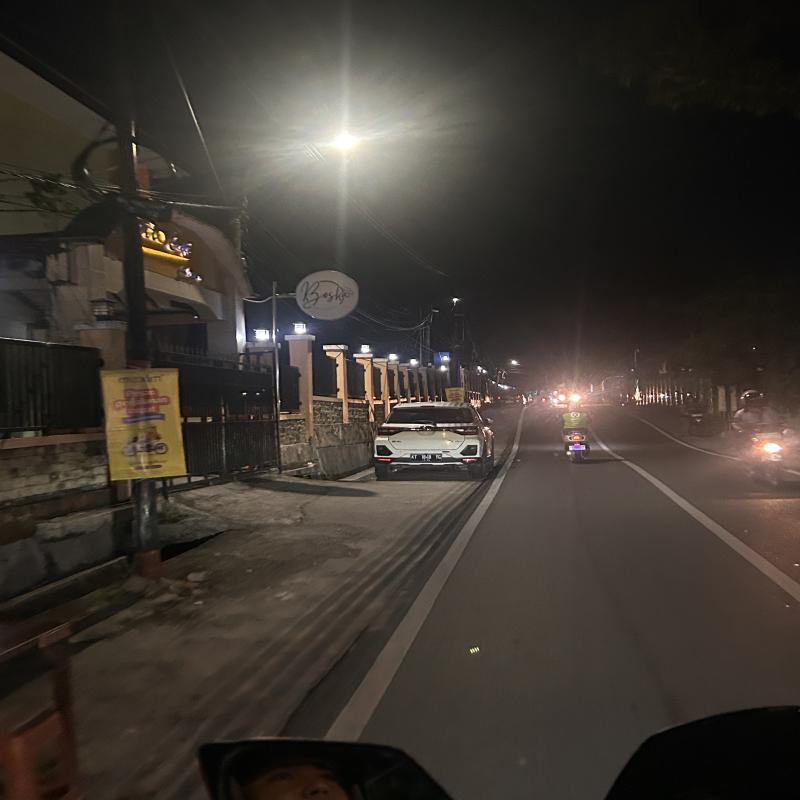license plate on a car: (410, 452, 446, 462)
